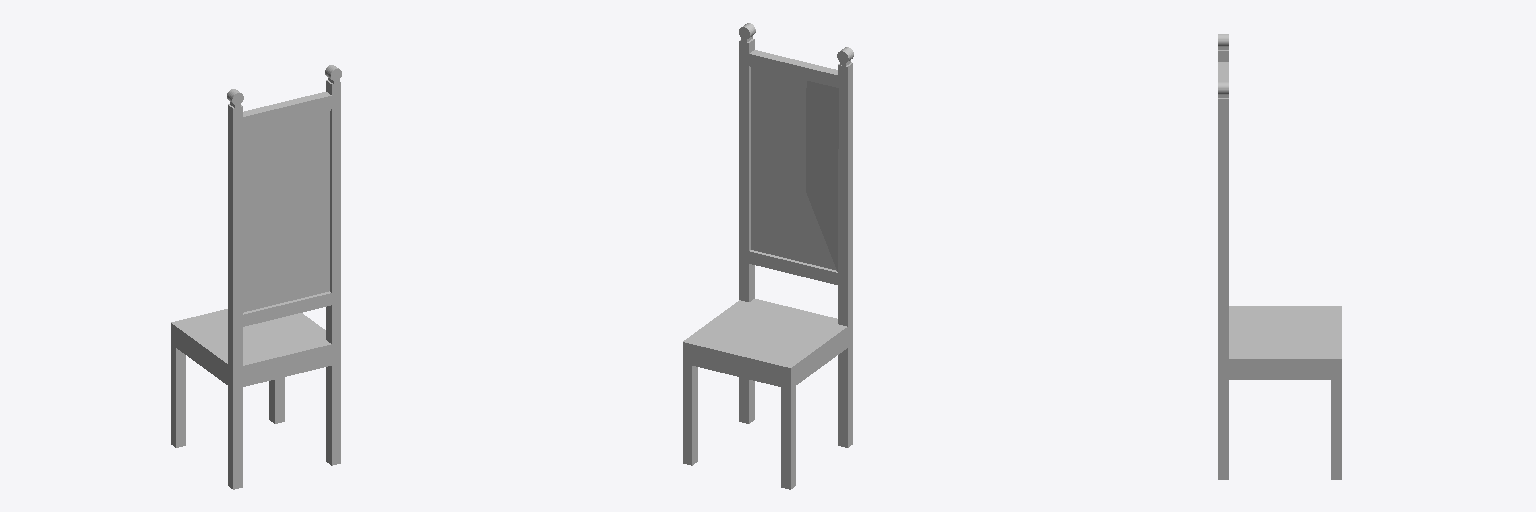
The model's file is Cadeira.obj.
The picture shows the model from 3 angles: view 1: azimuth 30°, elevation 25°; view 2: azimuth 150°, elevation 25°; view 3: azimuth 270°, elevation 25°; orthographic projection.
Parts seen in each view (by area): view 1: Cube.003; view 2: Cube.003; view 3: Cube.003.
Part boxes in pixels (x1,y1,x2,y2): Cube.003: (171, 65, 341, 489); Cube.003: (683, 23, 853, 489); Cube.003: (1218, 34, 1341, 479).
Size of the model in its own units: 2.03 by 6.99 by 2.